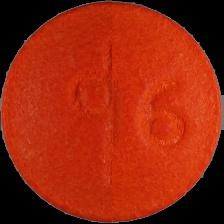54868-5356: (0, 0, 224, 224)
